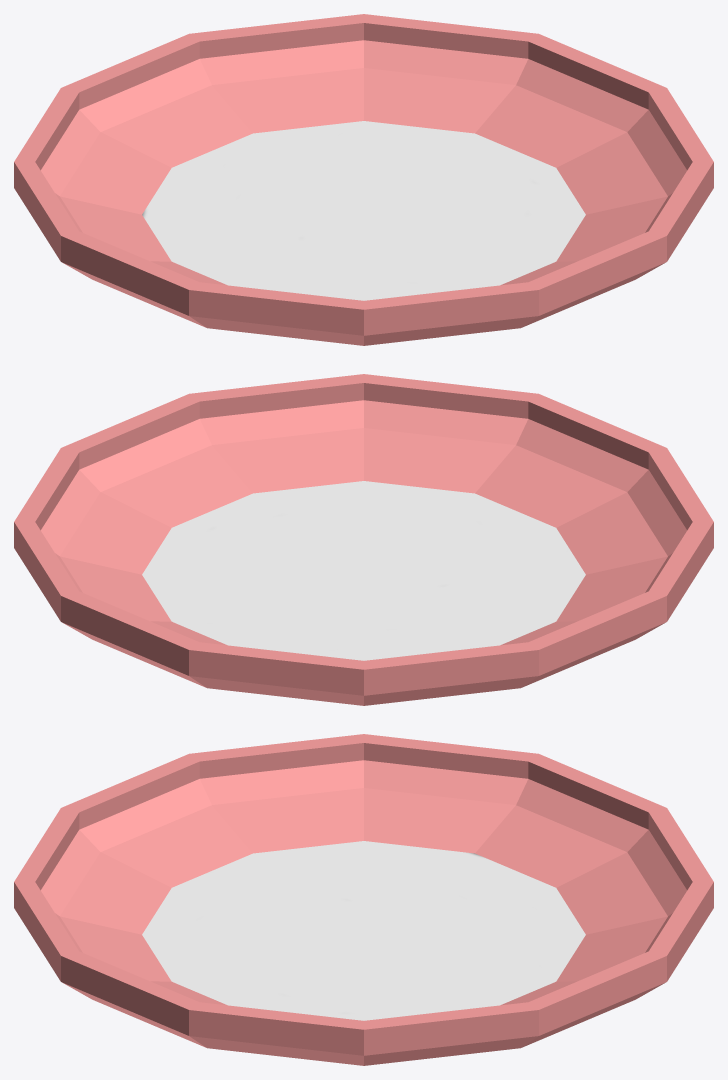
The model's file is plate_flat.fbx.
The picture shows the model from 3 angles, top to bottom: view 1: azimuth 30°, elevation 25°; view 2: azimuth 150°, elevation 25°; view 3: azimuth 270°, elevation 25°; orthographic projection.
Visible parts, largest first — view 1: Circle; view 2: Circle; view 3: Circle.
Part boxes in pixels (left/top/right/bottom): Circle: left=14, top=14, right=713, bottom=345; Circle: left=14, top=374, right=713, bottom=705; Circle: left=14, top=734, right=713, bottom=1065.
Bounding box in the file's own units: 137 × 17.18 × 137.
Materials: 1 (1 with a texture image).
